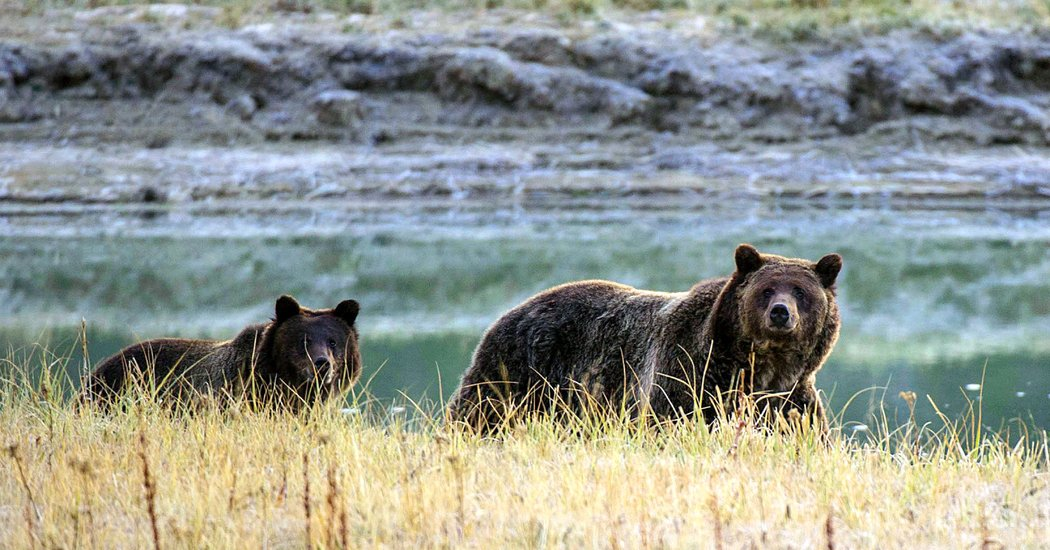bear: (730, 241, 848, 343), (271, 293, 365, 387)
